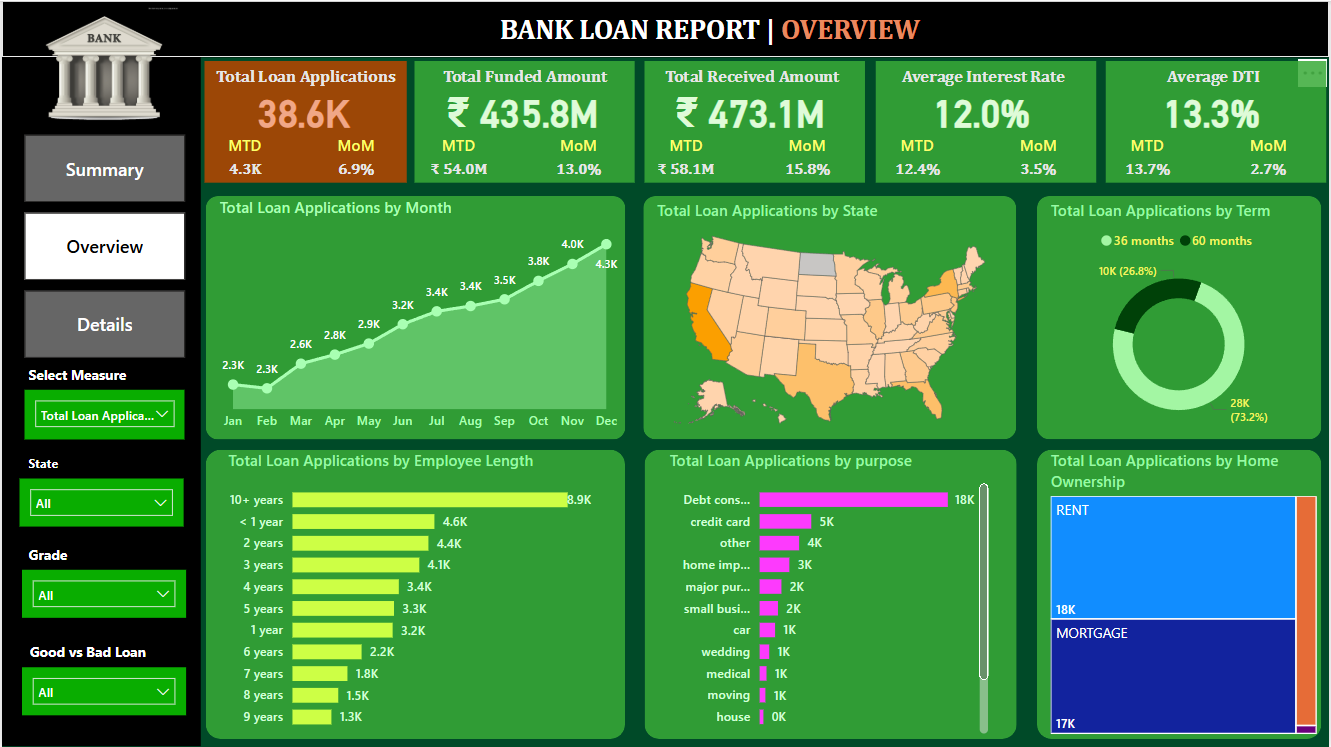

The dashboard page shown, as its layout file describes it:
{"tool":"powerbi","page":{"name":"Overview","canvas":[1280,720],"ordinal":1},"visuals":[{"type":"shape","box":[0,48.8,191.9,670.9],"z":0},{"type":"shape","box":[195.4,58.1,195.3,117.4],"z":0,"group":"g1"},{"type":"shape","box":[398.2,58.1,212.5,117.4],"z":0,"group":"g2"},{"type":"shape","box":[620.3,58.1,212.8,117.4],"z":0,"group":"g3"},{"type":"shape","box":[842.6,58.1,212.8,117.4],"z":0,"group":"g4"},{"type":"shape","box":[1064.9,58.1,212.8,117.4],"z":0,"group":"g5"},{"type":"card","fields":{"Values":["bank_loan_data.Total Loan Applications"]},"box":[191.9,76.7,198.8,59.3],"z":1000,"group":"g1"},{"type":"card","fields":{"Values":["bank_loan_data.Total Funded Amount"]},"box":[394.4,76.7,216.3,59.3],"z":1000,"group":"g2"},{"type":"card","fields":{"Values":["bank_loan_data.Total Amount Received"]},"box":[614.5,76.7,216.3,59.3],"z":1000,"group":"g3"},{"type":"card","fields":{"Values":["bank_loan_data.Avg Interest Rate"]},"box":[836.8,76.7,216.3,59.3],"z":1000,"group":"g4"},{"type":"card","fields":{"Values":["bank_loan_data.Avg DTI"]},"box":[1059.1,76.7,216.3,59.3],"z":1000,"group":"g5"},{"type":"shape","box":[196.5,188.4,405,235],"z":1000},{"type":"shape","box":[0,0,1280,54.7],"z":2000},{"type":"textbox","box":[195.4,58.1,195.3,37.2],"z":2000,"group":"g1"},{"type":"textbox","box":[398.2,58.1,212.5,37.2],"z":2000,"group":"g2"},{"type":"textbox","box":[618.3,58.1,212.5,37.2],"z":2000,"group":"g3"},{"type":"textbox","box":[840.6,58.1,212.5,37.2],"z":2000,"group":"g4"},{"type":"textbox","box":[1062.9,58.1,212.5,37.2],"z":2000,"group":"g5"},{"type":"textbox","box":[475.6,5.8,438.4,43],"z":3000},{"type":"card","title":"MTD","fields":{"Values":["bank_loan_data.MTD Loan Applications"]},"box":[195.4,129,77.9,46.5],"z":3000,"group":"g1"},{"type":"card","title":"MTD","fields":{"Values":["bank_loan_data.MTD Funded Amount"]},"box":[398.2,129,84.7,46.5],"z":3000,"group":"g2"},{"type":"card","title":"MTD","fields":{"Values":["bank_loan_data.MTD Total Amount Received"]},"box":[618.3,129,84.7,46.5],"z":3000,"group":"g3"},{"type":"card","title":"MTD","fields":{"Values":["bank_loan_data.MTD Avg Interest Rate"]},"box":[840.6,129,84.7,46.5],"z":3000,"group":"g4"},{"type":"card","title":"MTD","fields":{"Values":["bank_loan_data.MTD Avg DTI"]},"box":[1062.9,129,84.7,46.5],"z":3000,"group":"g5"},{"type":"group","id":"g1","title":"Group 1","box":[191.9,58.1,198.8,117.4],"z":4000},{"type":"card","title":"MoM","fields":{"Values":["bank_loan_data.MoM Loan Applications"]},"box":[302.4,129,77.9,46.5],"z":4000,"group":"g1"},{"type":"card","title":"MoM","fields":{"Values":["bank_loan_data.MoM Total Funded Amount"]},"box":[514.2,129,84.9,46.5],"z":4000,"group":"g2"},{"type":"card","title":"MoM","fields":{"Values":["bank_loan_data.MoM Total Amount Received"]},"box":[734.7,129,84.7,46.5],"z":4000,"group":"g3"},{"type":"card","title":"MoM","fields":{"Values":["bank_loan_data.MoM Avg Interest Rate"]},"box":[957,129,84.7,46.5],"z":4000,"group":"g4"},{"type":"card","title":"MoM","fields":{"Values":["bank_loan_data.MoM Avg DTI"]},"box":[1179.3,129,84.7,46.5],"z":4000,"group":"g5"},{"type":"group","id":"g2","title":"Group 1","box":[394.4,58.1,216.3,117.4],"z":5000},{"type":"group","id":"g3","title":"Group 1","box":[614.5,58.1,218.6,117.4],"z":6000},{"type":"group","id":"g4","title":"Group 1","box":[836.8,58.1,218.6,117.4],"z":7000},{"type":"group","id":"g5","title":"Group 1","box":[1059.1,58.1,218.6,117.4],"z":8000},{"type":"slicer","fields":{"Values":["bank_loan_data.address_state"]},"box":[17.4,460.5,158.1,46.5],"z":9000},{"type":"textbox","box":[20.9,431.4,75.6,29.1],"z":10000},{"type":"slicer","fields":{"Values":["bank_loan_data.grade"]},"box":[19.8,548.8,158.1,46.5],"z":11000},{"type":"textbox","box":[20.9,519.8,75.6,29.1],"z":12000},{"type":"slicer","fields":{"Values":["bank_loan_data.Good vs Bad Loan"]},"box":[19.1,643.3,158.1,46.5],"z":13000},{"type":"textbox","box":[22.1,614,139.5,29.1],"z":14000},{"type":"areaChart","fields":{"Y":["bank_loan_data.Total Loan Applications"],"Category":["Date Table.Month"]},"box":[204.7,188.4,396.5,234.9],"z":15000},{"type":"slicer","fields":{"Values":["Select Measure.Select Measure"]},"box":[22.1,375.6,154.7,47.7],"z":16000},{"type":"textbox","box":[20.9,346.5,140.7,29.1],"z":17000},{"type":"shape","box":[618.6,188.4,360,234.9],"z":18000},{"type":"shapeMap","fields":{"Value":["bank_loan_data.Total Loan Applications"],"Category":["bank_loan_data.address_state"]},"box":[626.7,191.9,343,231.4],"z":19000},{"type":"shape","box":[998.8,188.4,274.4,234.9],"z":20000},{"type":"donutChart","fields":{"Y":["bank_loan_data.Total Loan Applications"],"Category":["bank_loan_data.term"]},"box":[1007,191.9,257,231.4],"z":21000},{"type":"shape","box":[196.5,432.6,404.7,279.1],"z":22000},{"type":"barChart","fields":{"Y":["bank_loan_data.Total Loan Applications"],"Category":["bank_loan_data.emp_length"]},"box":[214,432.6,360.5,279.1],"z":23000},{"type":"shape","box":[619.8,432.6,359.3,279.1],"z":24000},{"type":"barChart","fields":{"Y":["bank_loan_data.Total Loan Applications"],"Category":["bank_loan_data.purpose"]},"box":[639.5,432.6,317.4,279.1],"z":25000},{"type":"shape","box":[998.8,432.6,274.4,279.1],"z":26000},{"type":"treemap","fields":{"Values":["bank_loan_data.Total Loan Applications"],"Group":["bank_loan_data.home_ownership"]},"box":[1007,432.6,266.3,279.1],"z":27000},{"type":"pageNavigator","box":[22.1,129.1,155.8,217.4],"z":28000},{"type":"image","box":[19.8,0,155.8,129.1],"z":29000}]}

Visuals, with their boxes in screenshot pixels (x1, y1, x2, y2), scaled from the page's 1280x720 canvas onto the 1331x747 screenshot:
shape: Rect(0, 51, 200, 746)
shape: Rect(203, 60, 406, 182)
shape: Rect(414, 60, 635, 182)
shape: Rect(645, 60, 866, 182)
shape: Rect(876, 60, 1097, 182)
shape: Rect(1107, 60, 1329, 182)
card - bank_loan_data.Total Loan Applications: Rect(200, 80, 406, 141)
card - bank_loan_data.Total Funded Amount: Rect(410, 80, 635, 141)
card - bank_loan_data.Total Amount Received: Rect(639, 80, 864, 141)
card - bank_loan_data.Avg Interest Rate: Rect(870, 80, 1095, 141)
card - bank_loan_data.Avg DTI: Rect(1101, 80, 1326, 141)
shape: Rect(204, 195, 625, 439)
shape: Rect(0, 0, 1330, 57)
textbox: Rect(203, 60, 406, 99)
textbox: Rect(414, 60, 635, 99)
textbox: Rect(643, 60, 864, 99)
textbox: Rect(874, 60, 1095, 99)
textbox: Rect(1105, 60, 1326, 99)
textbox: Rect(495, 6, 950, 51)
"MTD" card: Rect(203, 134, 284, 182)
"MTD" card: Rect(414, 134, 502, 182)
"MTD" card: Rect(643, 134, 731, 182)
"MTD" card: Rect(874, 134, 962, 182)
"MTD" card: Rect(1105, 134, 1193, 182)
"Group 1" group: Rect(200, 60, 406, 182)
"MoM" card: Rect(314, 134, 395, 182)
"MoM" card: Rect(535, 134, 623, 182)
"MoM" card: Rect(764, 134, 852, 182)
"MoM" card: Rect(995, 134, 1083, 182)
"MoM" card: Rect(1226, 134, 1314, 182)
"Group 1" group: Rect(410, 60, 635, 182)
"Group 1" group: Rect(639, 60, 866, 182)
"Group 1" group: Rect(870, 60, 1097, 182)
"Group 1" group: Rect(1101, 60, 1329, 182)
slicer - bank_loan_data.address_state: Rect(18, 478, 182, 526)
textbox: Rect(22, 448, 100, 478)
slicer - bank_loan_data.grade: Rect(21, 569, 185, 618)
textbox: Rect(22, 539, 100, 569)
slicer - bank_loan_data.Good vs Bad Loan: Rect(20, 667, 184, 716)
textbox: Rect(23, 637, 168, 667)
areaChart - bank_loan_data.Total Loan Applications x Date Table.Month: Rect(213, 195, 625, 439)
slicer - Select Measure.Select Measure: Rect(23, 390, 184, 439)
textbox: Rect(22, 359, 168, 390)
shape: Rect(643, 195, 1018, 439)
shapeMap - bank_loan_data.Total Loan Applications x bank_loan_data.address_state: Rect(652, 199, 1008, 439)
shape: Rect(1039, 195, 1324, 439)
donutChart - bank_loan_data.Total Loan Applications x bank_loan_data.term: Rect(1047, 199, 1314, 439)
shape: Rect(204, 449, 625, 738)
barChart - bank_loan_data.Total Loan Applications x bank_loan_data.emp_length: Rect(223, 449, 597, 738)
shape: Rect(644, 449, 1018, 738)
barChart - bank_loan_data.Total Loan Applications x bank_loan_data.purpose: Rect(665, 449, 995, 738)
shape: Rect(1039, 449, 1324, 738)
treemap - bank_loan_data.Total Loan Applications x bank_loan_data.home_ownership: Rect(1047, 449, 1324, 738)
pageNavigator: Rect(23, 134, 185, 359)
image: Rect(21, 0, 183, 134)
